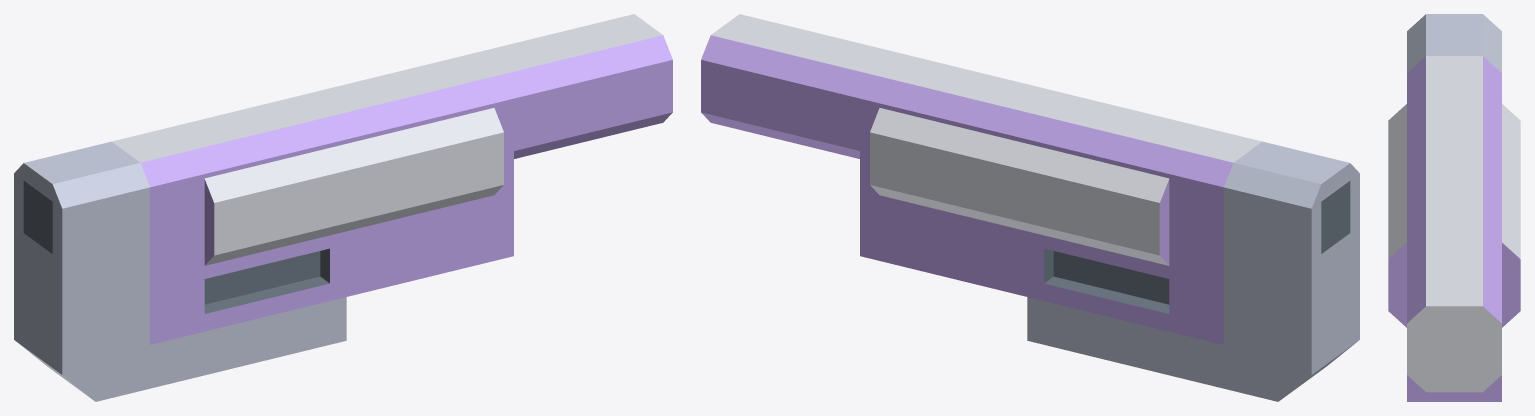
The model's file is BaseMesh_A.fbx.
3 views of the same model, side by side, from view 1: azimuth 30°, elevation 25°; view 2: azimuth 150°, elevation 25°; view 3: azimuth 270°, elevation 25° (orthographic).
Visible parts, largest first — view 1: body_a; view 2: body_a; view 3: body_a.
Part boxes in pixels (box(x1,y1,x2,y2)): body_a: box(14, 14, 672, 401); body_a: box(701, 14, 1359, 401); body_a: box(1388, 14, 1520, 401).
Bounding box in the file's own units: 73 × 25 × 14.
